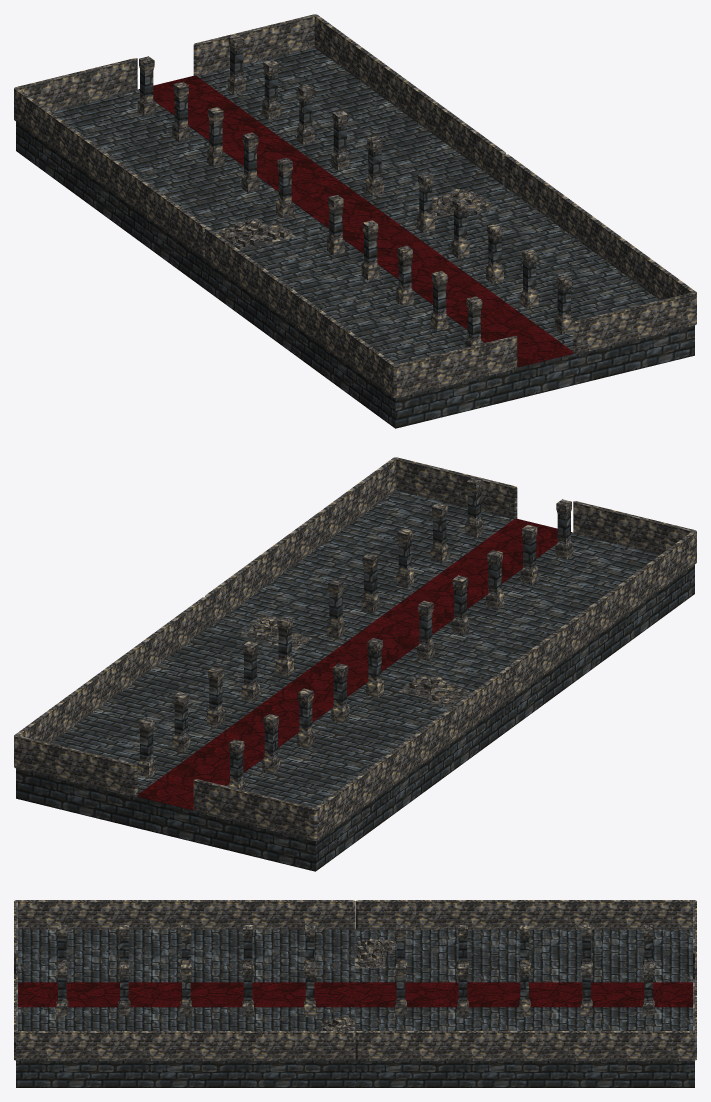
Rendered from room-2door-big.glb.
The picture shows the model from 3 angles, top to bottom: view 1: azimuth 30°, elevation 25°; view 2: azimuth 150°, elevation 25°; view 3: azimuth 270°, elevation 25°; orthographic projection. The views are drawn at different scales.
Visible parts, largest first — view 1: floor (×12), wall (×45), column (×20), porch_floorCenter (×2), wall_corner (×4); view 2: floor (×12), wall (×46), column (×20), porch_floorCenter (×2), wall_corner (×4); view 3: floor (×53), wall (×40), porch_floorCenter (×2), column (×20), wall_corner (×4), debris_stone (×2).
Boxes of the visible parts, x1=… form: floor (×12): x1=67, y1=66, x2=694, y2=428; wall (×45): x1=31, y1=21, x2=666, y2=390; column (×20): x1=137, y1=34, x2=573, y2=347; porch_floorCenter (×2): x1=138, y1=75, x2=573, y2=367; wall_corner (×4): x1=14, y1=14, x2=696, y2=397; floor (×12): x1=16, y1=509, x2=643, y2=871; wall (×46): x1=44, y1=464, x2=679, y2=833; column (×20): x1=137, y1=477, x2=573, y2=790; porch_floorCenter (×2): x1=137, y1=518, x2=572, y2=810; wall_corner (×4): x1=14, y1=457, x2=696, y2=840; floor (×53): x1=16, y1=929, x2=694, y2=1087; wall (×40): x1=47, y1=900, x2=664, y2=1060; porch_floorCenter (×2): x1=18, y1=982, x2=692, y2=1007; column (×20): x1=56, y1=925, x2=654, y2=1016; wall_corner (×4): x1=14, y1=900, x2=696, y2=1060; debris_stone (×2): x1=356, y1=938, x2=390, y2=967.
Bounding box in the file's own units: 10.13 × 2.7 × 22.06.
262 materials, 262 textured.
